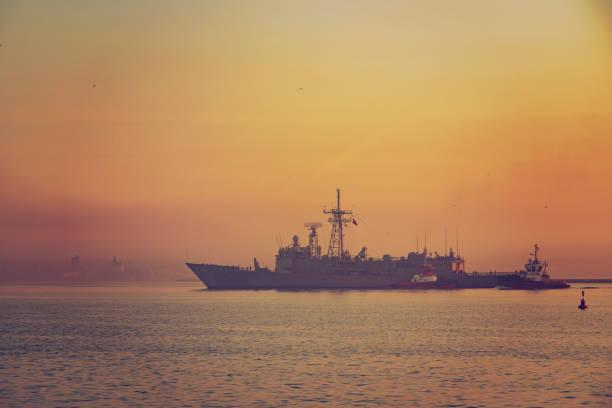MIL_Ship: (184, 195, 513, 288)
